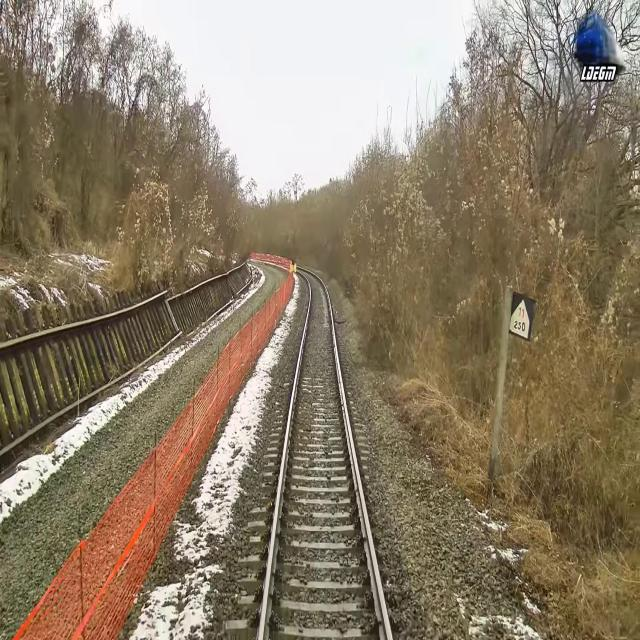rail-track: (262, 267, 387, 639)
